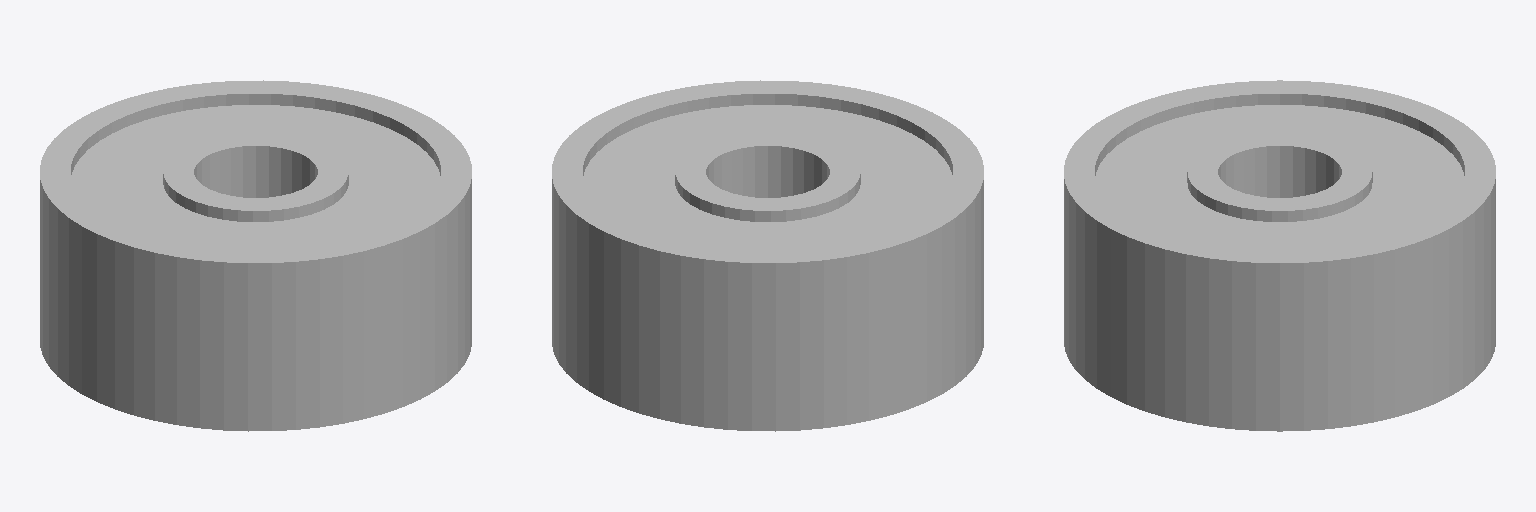
Rendered from bearing1.obj.
The picture shows the model from 3 angles: view 1: azimuth 30°, elevation 25°; view 2: azimuth 150°, elevation 25°; view 3: azimuth 270°, elevation 25°; orthographic projection.
Size of the model in its own units: 7 by 3 by 7.